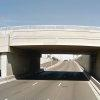Bridge: (6, 14, 97, 60)
